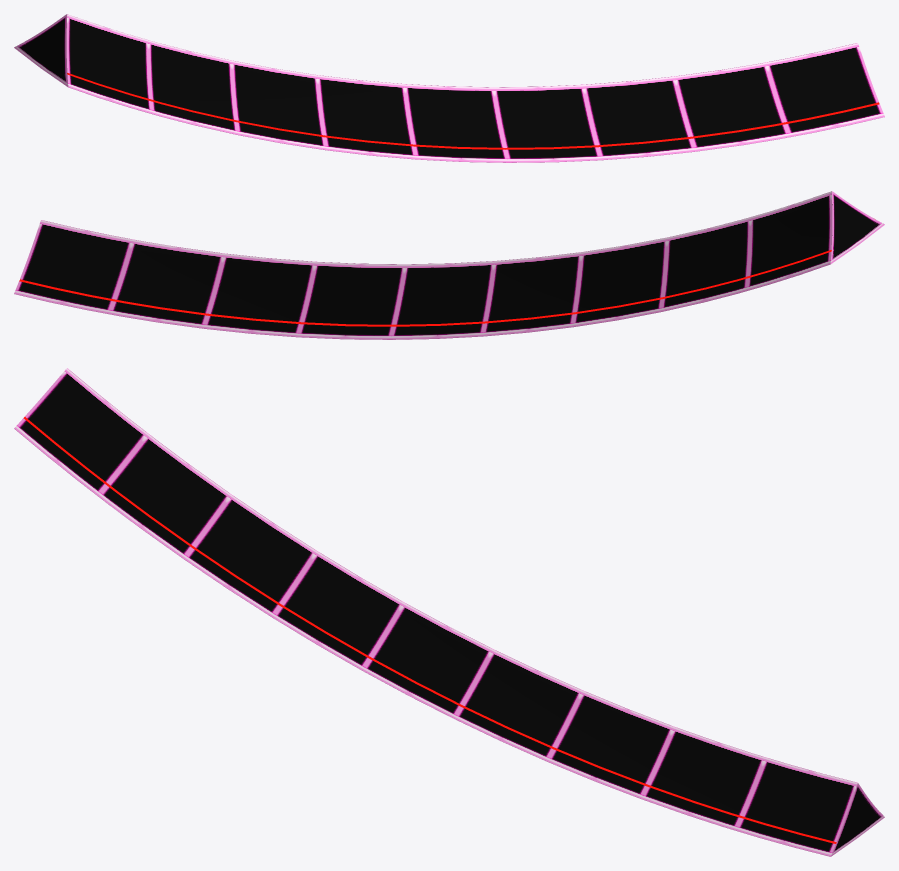
Rendered from Platform-2-new.fbx.
The picture shows the model from 3 angles, top to bottom: view 1: azimuth 30°, elevation 25°; view 2: azimuth 150°, elevation 25°; view 3: azimuth 330°, elevation 25°; orthographic projection.
Parts seen in each view (by area): view 1: ramp.010; view 2: ramp.010; view 3: ramp.010.
Boxes of the visible parts, x1,y1,x2,y2 form: ramp.010: (14, 14, 884, 162); ramp.010: (14, 191, 884, 339); ramp.010: (14, 368, 884, 856).
Size of the model in its own units: 3187 by 1032 by 366.
